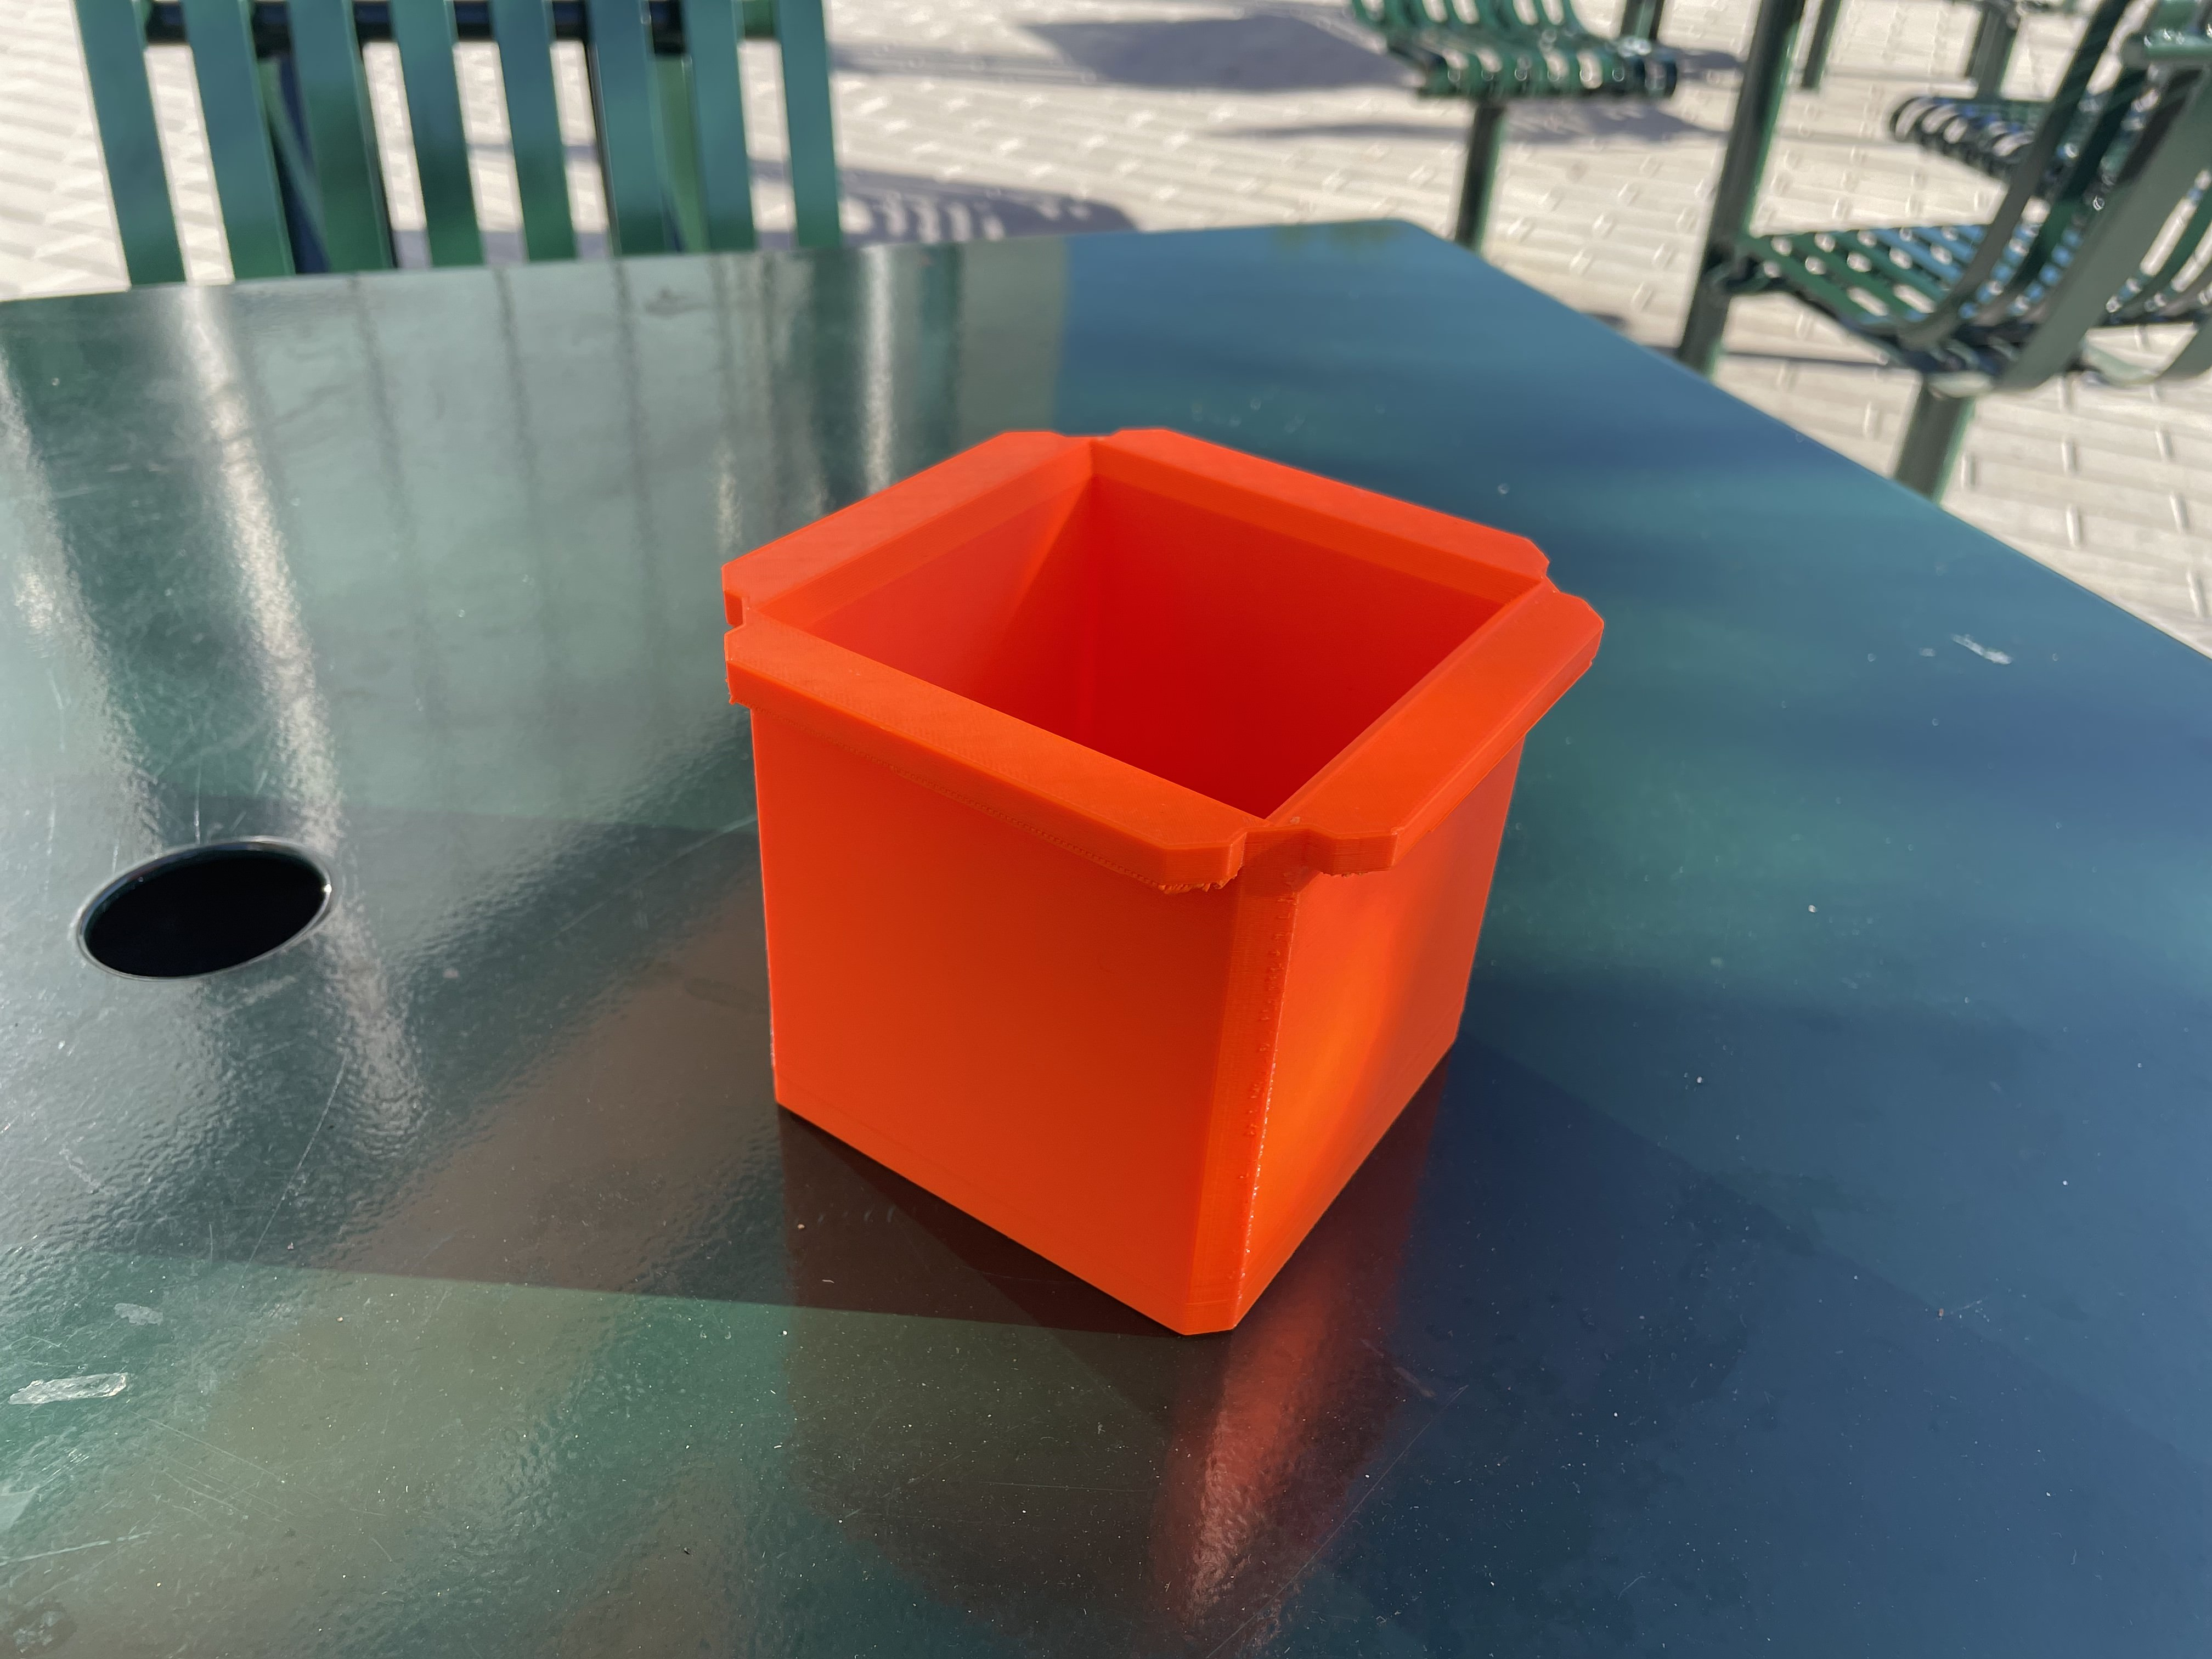payload1: (688, 406, 1622, 1358)
